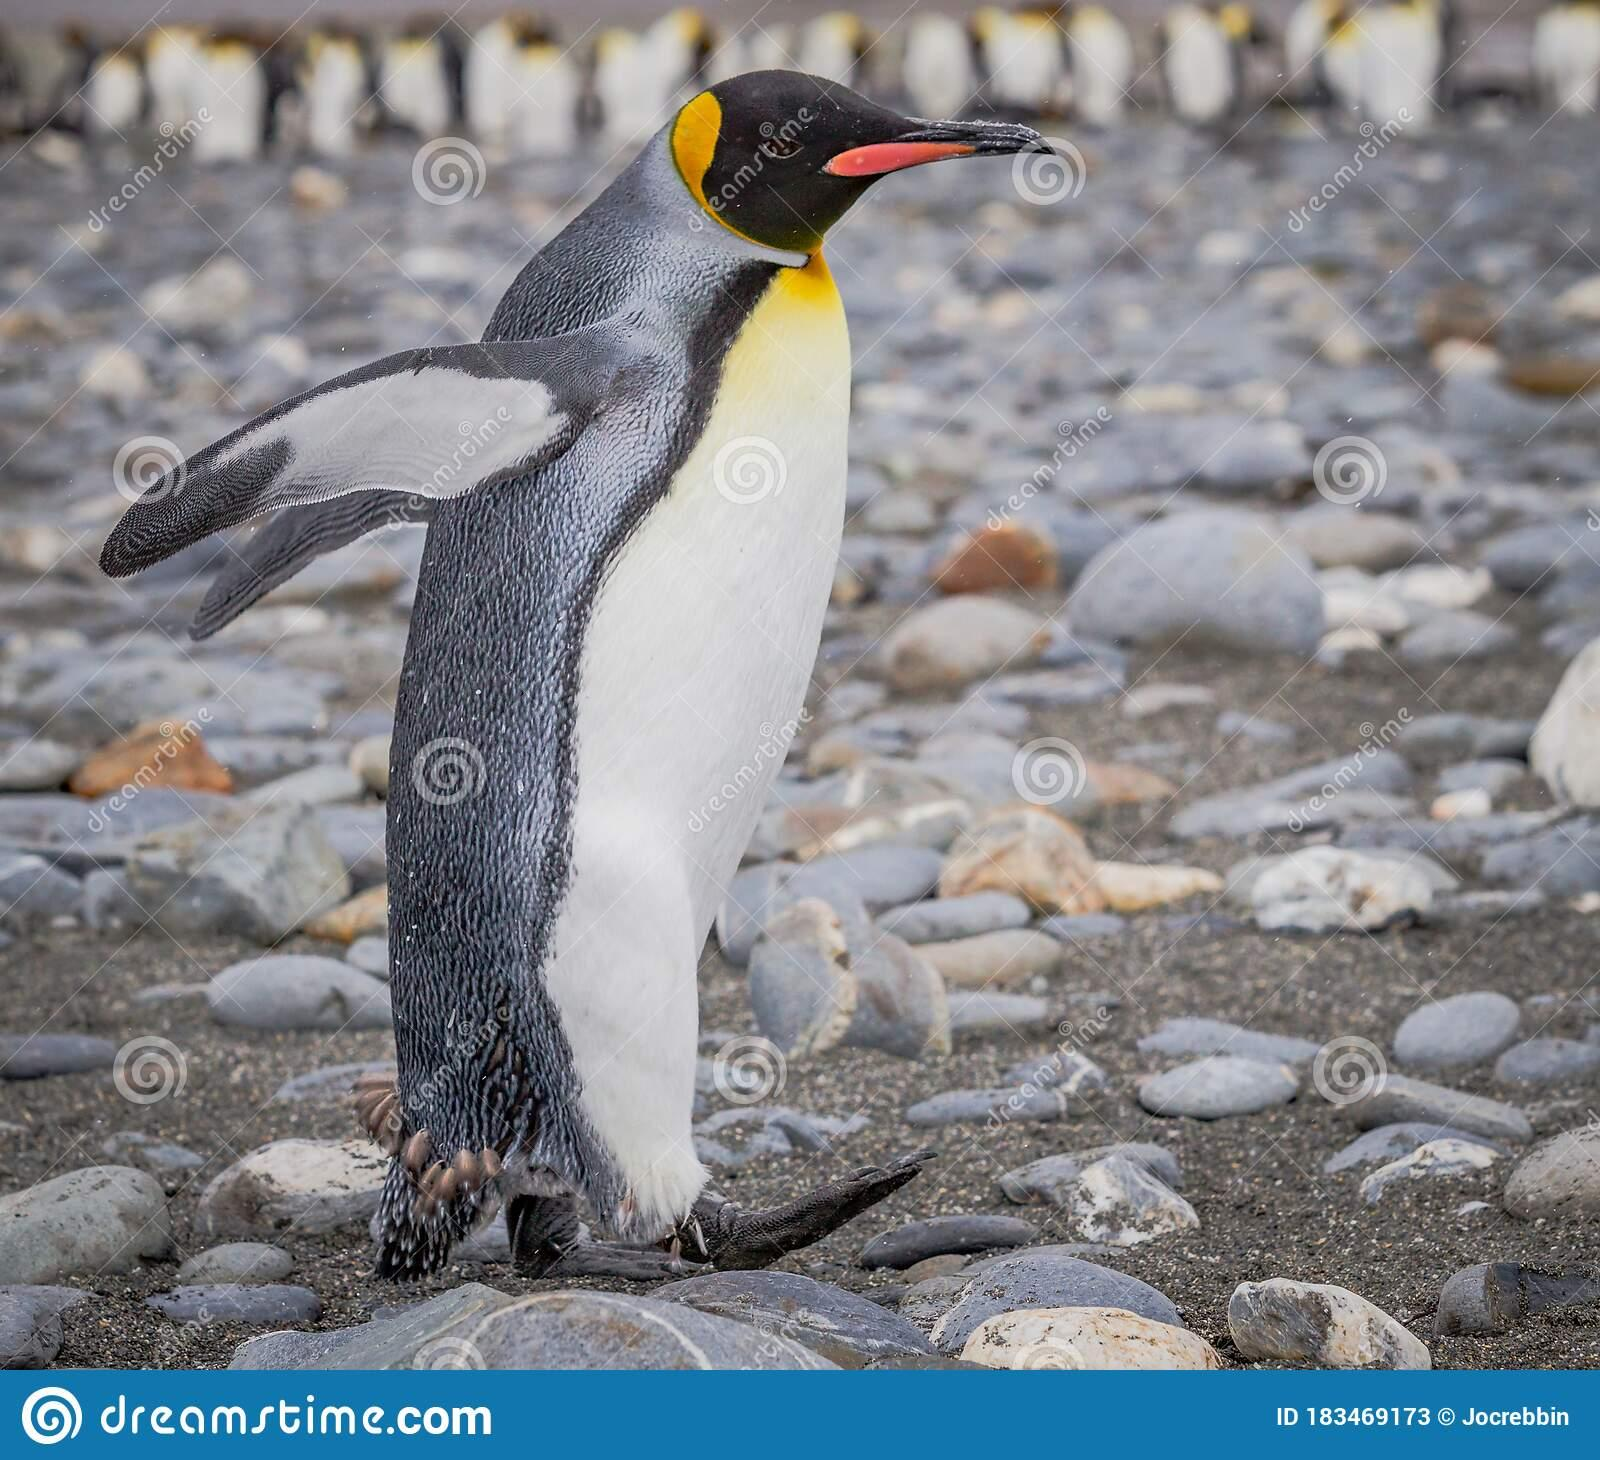king: (201, 50, 1082, 1307)
